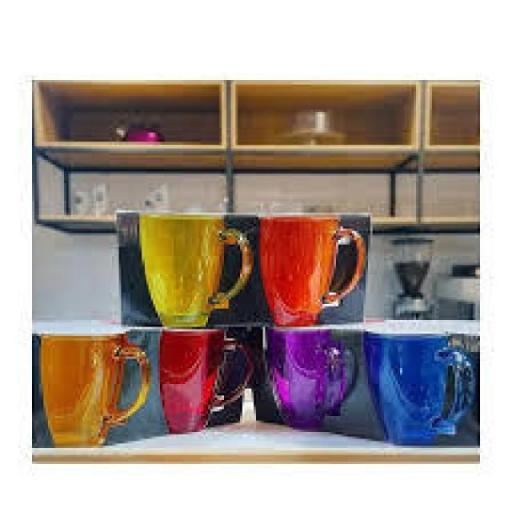glass: (364, 319, 478, 443), (134, 212, 258, 326), (38, 332, 152, 448), (257, 213, 369, 324), (157, 326, 251, 432), (264, 328, 358, 429)
